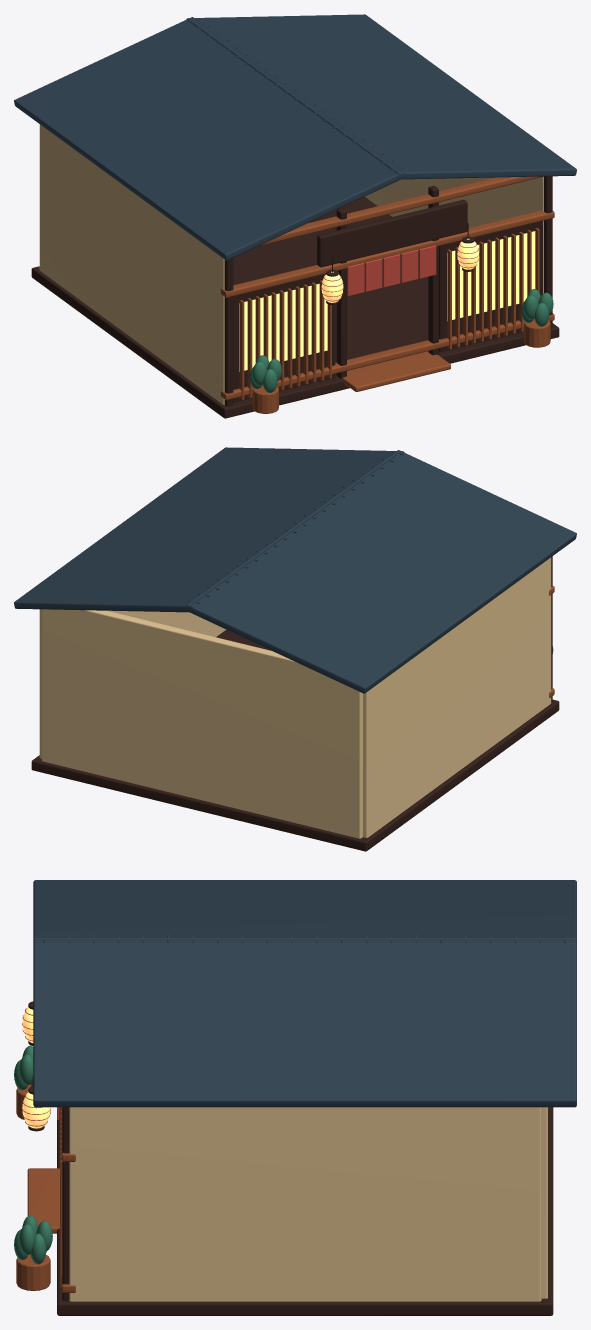
The model's file is minato-exterior.glb.
3 renders of one model, top to bottom at view 1: azimuth 30°, elevation 25°; view 2: azimuth 150°, elevation 25°; view 3: azimuth 270°, elevation 25°, orthographic. The views are drawn at different scales.
Visible parts, largest first — view 1: minato-exterior / Indigo ceramic, minato-exterior / Warm limewash, minato-exterior / Smoked timber, minato-exterior / Honey cedar, minato-exterior / Lantern paper, minato-exterior / Persimmon noren, minato-exterior / Bottle green; view 2: minato-exterior / Warm limewash, minato-exterior / Indigo ceramic, minato-exterior / Smoked timber; view 3: minato-exterior / Indigo ceramic, minato-exterior / Warm limewash, minato-exterior / Smoked timber, minato-exterior / Honey cedar, minato-exterior / Bottle green, minato-exterior / Lantern paper.
Boxes of the visible parts, x1=… form: minato-exterior / Indigo ceramic: x1=14, y1=14, x2=576, y2=260; minato-exterior / Warm limewash: x1=39, y1=124, x2=543, y2=404; minato-exterior / Smoked timber: x1=31, y1=176, x2=559, y2=418; minato-exterior / Honey cedar: x1=220, y1=176, x2=554, y2=413; minato-exterior / Lantern paper: x1=239, y1=231, x2=535, y2=371; minato-exterior / Persimmon noren: x1=321, y1=242, x2=479, y2=301; minato-exterior / Bottle green: x1=249, y1=289, x2=553, y2=392; minato-exterior / Warm limewash: x1=39, y1=557, x2=551, y2=838; minato-exterior / Indigo ceramic: x1=14, y1=447, x2=576, y2=693; minato-exterior / Smoked timber: x1=31, y1=556, x2=559, y2=851; minato-exterior / Indigo ceramic: x1=33, y1=880, x2=576, y2=1107; minato-exterior / Warm limewash: x1=69, y1=1107, x2=547, y2=1301; minato-exterior / Smoked timber: x1=28, y1=1001, x2=553, y2=1315; minato-exterior / Honey cedar: x1=16, y1=1084, x2=75, y2=1292; minato-exterior / Bottle green: x1=14, y1=1045, x2=52, y2=1264; minato-exterior / Lantern paper: x1=22, y1=1007, x2=50, y2=1128.
Size of the model in its own units: 8.82 by 5.11 by 9.53.
